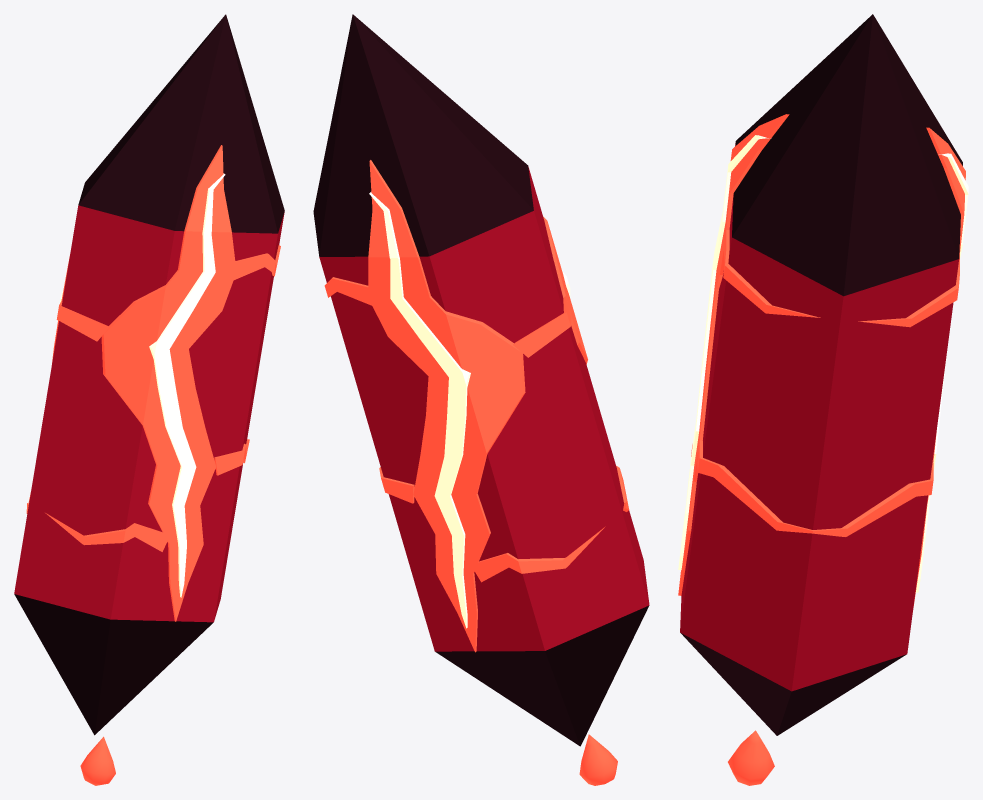
File: bloodrift_shard.glb
3 views of the same model, side by side, from view 1: azimuth 30°, elevation 25°; view 2: azimuth 150°, elevation 25°; view 3: azimuth 270°, elevation 25° (orthographic). The views are drawn at different scales.
Parts seen in each view (by area): view 1: bloodrift_shard; view 2: bloodrift_shard; view 3: bloodrift_shard.
Part boxes in pixels (left/top/right/bottom): bloodrift_shard: left=14, top=14, right=284, bottom=785; bloodrift_shard: left=313, top=14, right=649, bottom=785; bloodrift_shard: left=678, top=14, right=968, bottom=785.
Size of the model in its own units: 0.1045 by 0.24 by 0.072.
